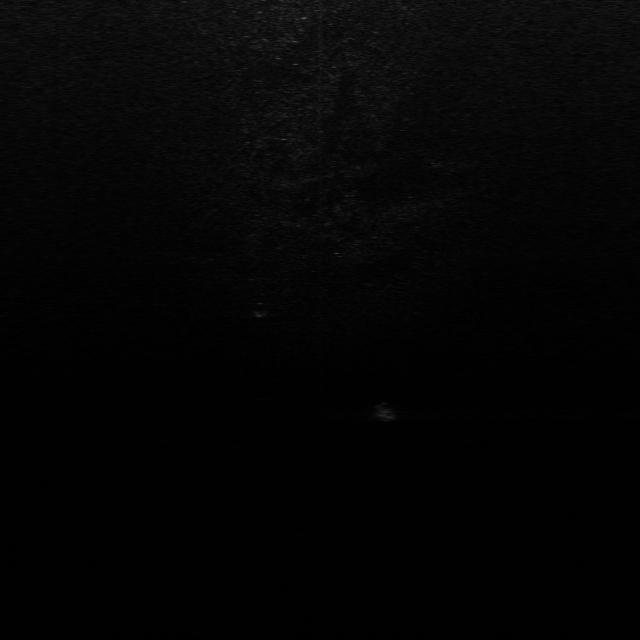ball: (373, 402, 398, 422)
circle cage: (250, 300, 272, 319)
